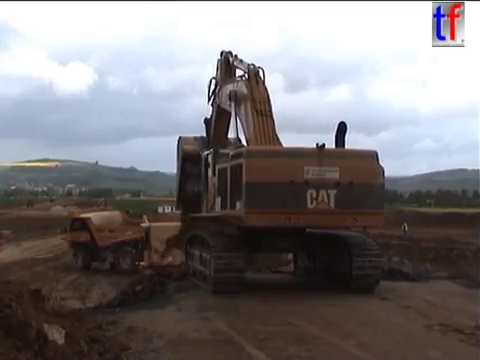excavator: (171, 46, 391, 297), (89, 194, 115, 213)
truck: (131, 212, 297, 291), (58, 207, 199, 276), (24, 196, 37, 209), (47, 196, 57, 205)
worker: (400, 217, 411, 238)
